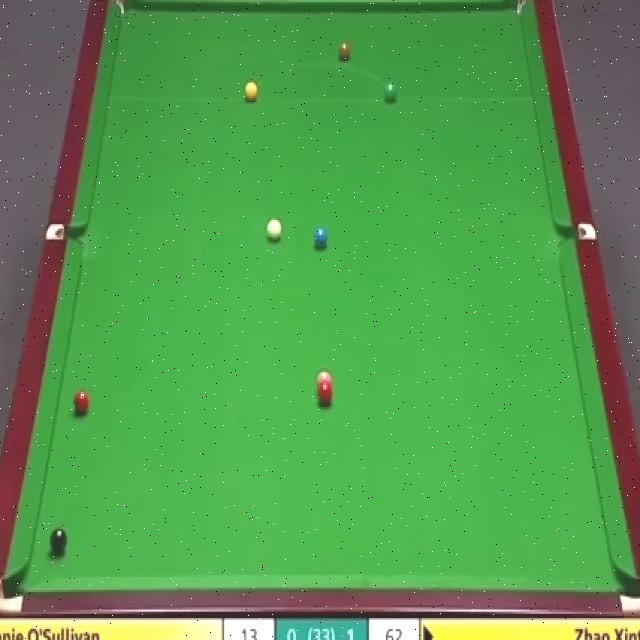black-ball: (46, 531, 64, 560)
blue-ball: (312, 225, 329, 250)
brown-ball: (338, 41, 351, 62)
green-ball: (383, 80, 397, 102)
pink-ball: (316, 370, 333, 385)
red-ball: (72, 387, 89, 416), (317, 382, 334, 405)
white-ball: (264, 216, 281, 244)
yellow-ball: (245, 81, 258, 102)
